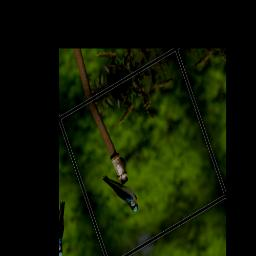Swallow: (101, 162, 141, 223)
